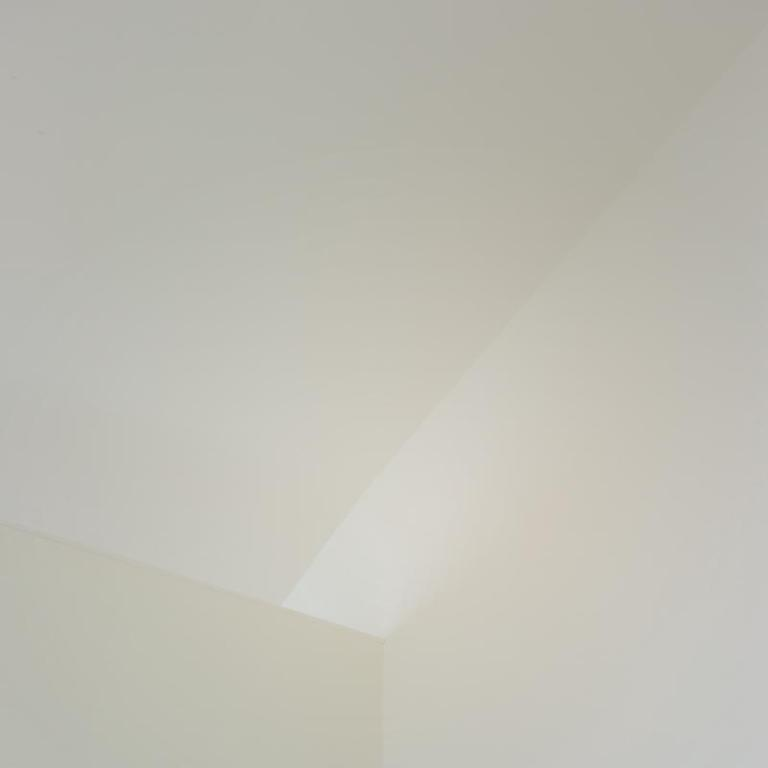white-walls: (24, 21, 739, 722)
